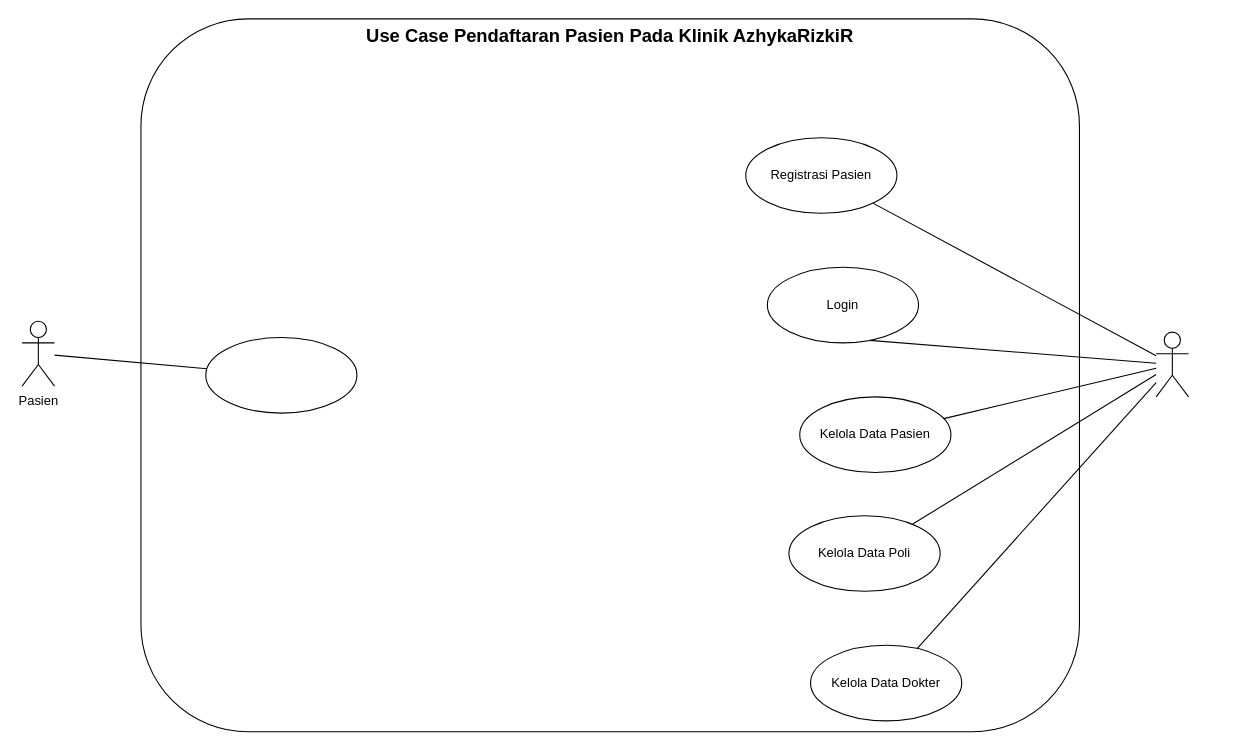
This 1253x751 diagram has some shape labels left out. The shapes that lost their labels are listed below. From the top down, each one's centre as x and y in pixels, then its label:
point (281, 374): Pendaftaran Berobat
point (1172, 364): Petugas Pembayaran
